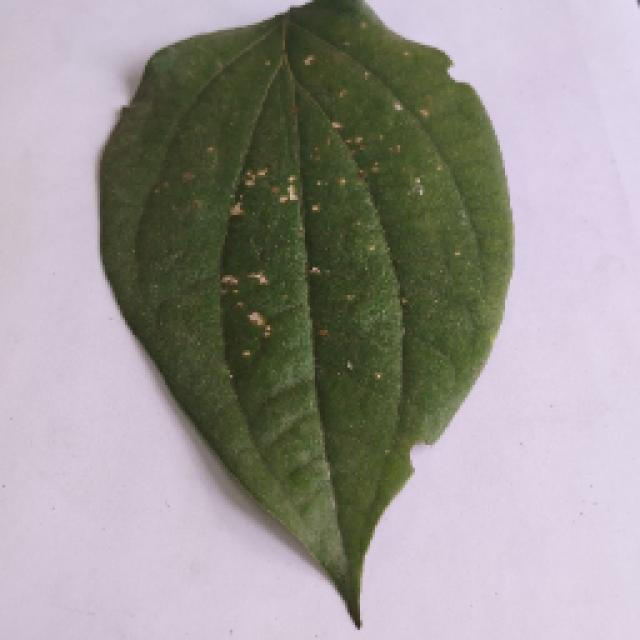pollu-disease: (98, 2, 512, 622)
